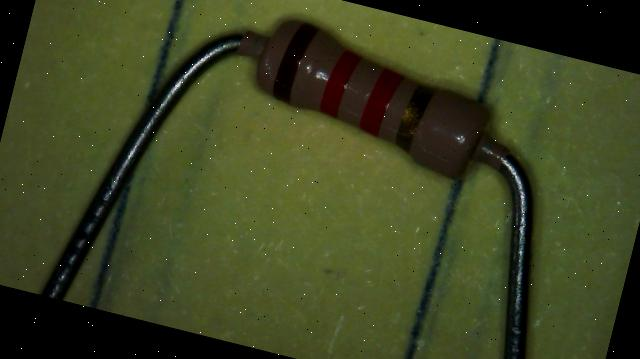brown: (272, 21, 318, 106)
gold: (394, 82, 435, 154)
red: (359, 66, 404, 138), (319, 46, 362, 118)
resistor: (231, 0, 516, 205)
